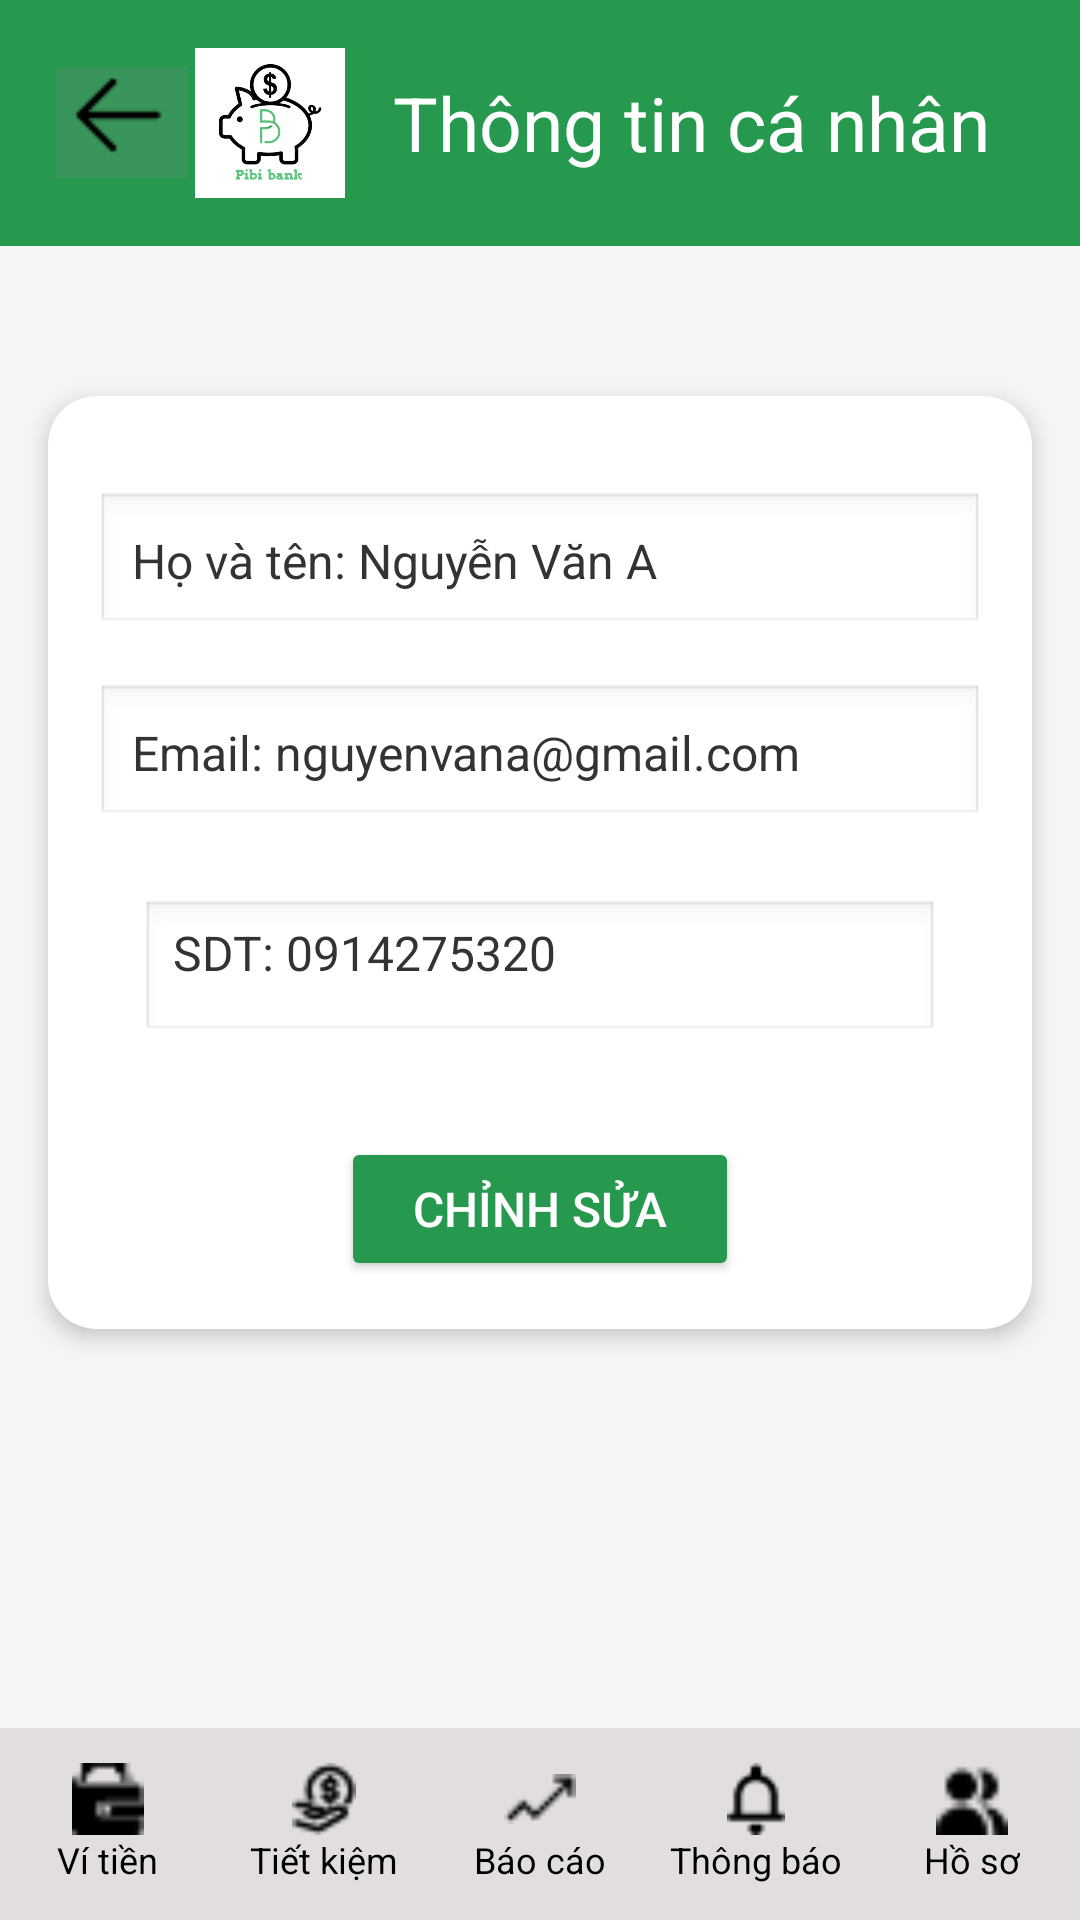

Icon click points for this 1080px x 1920px phone screenshot, format [x,y]:
muiten: [122,122]
